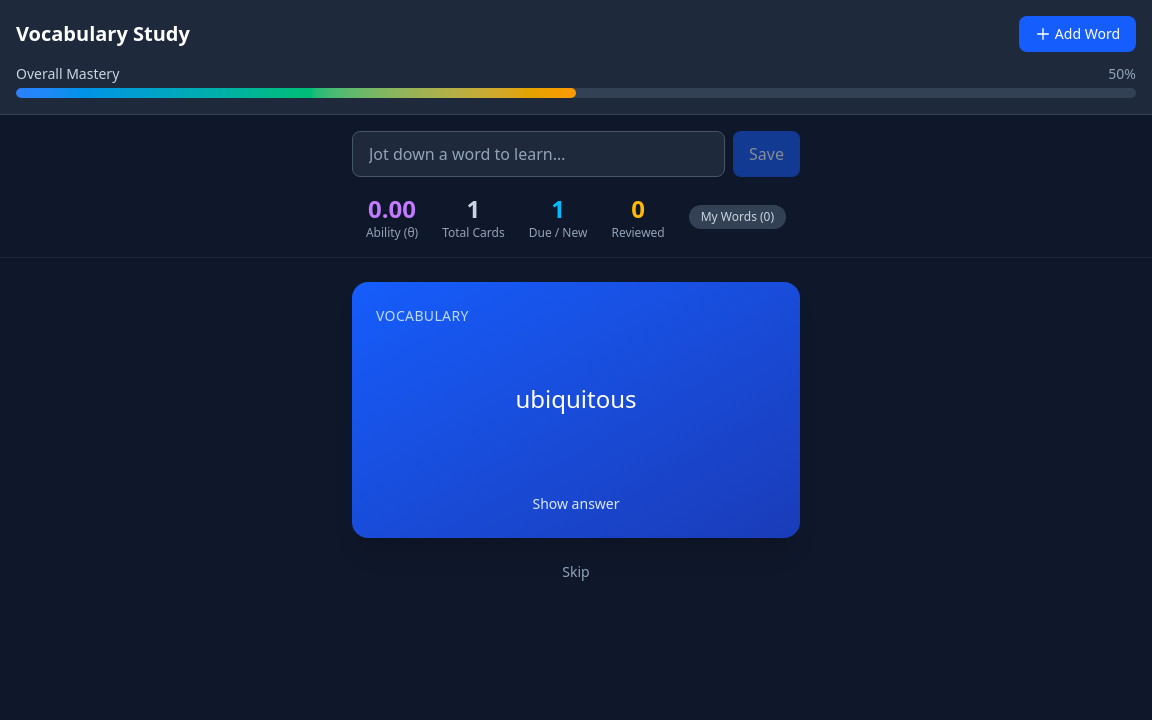
it: VocabularyStudy › does not capture a word that is already a card
Type "Ubiquitous" into the field named "Capture a word to define later".
click(539, 154); type("Ubiquitous")  # box [352,131,725,177]
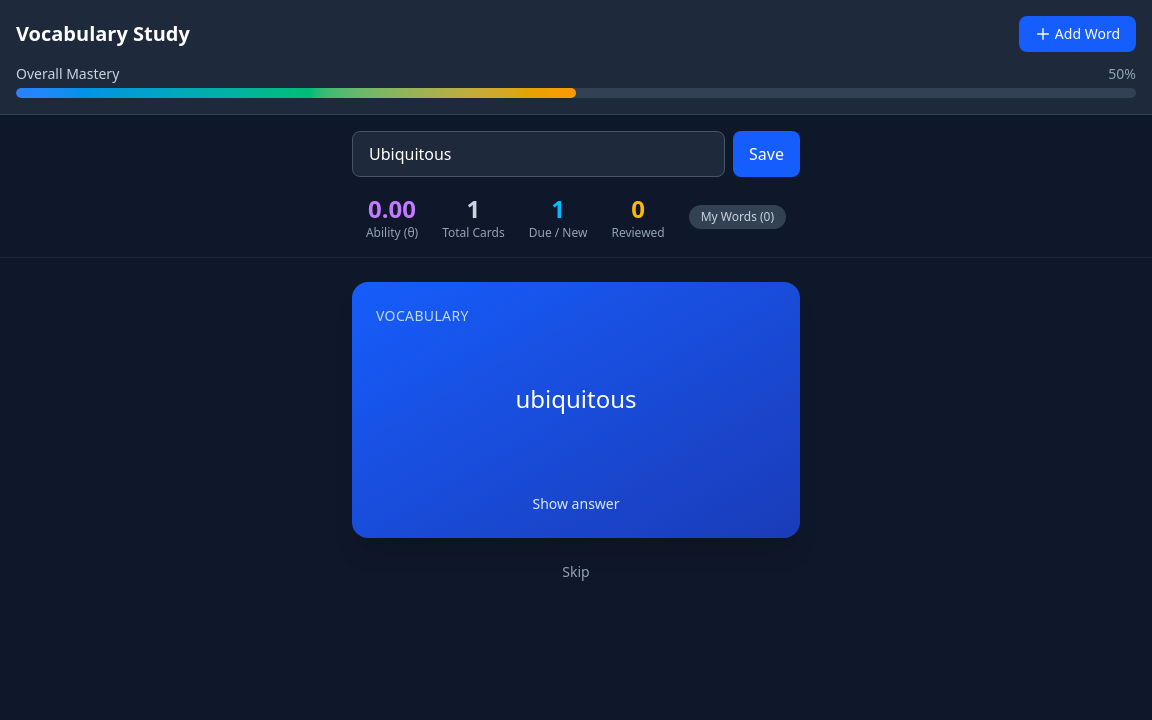
Click the button "Save".
click(767, 154)  # box [733,131,800,177]
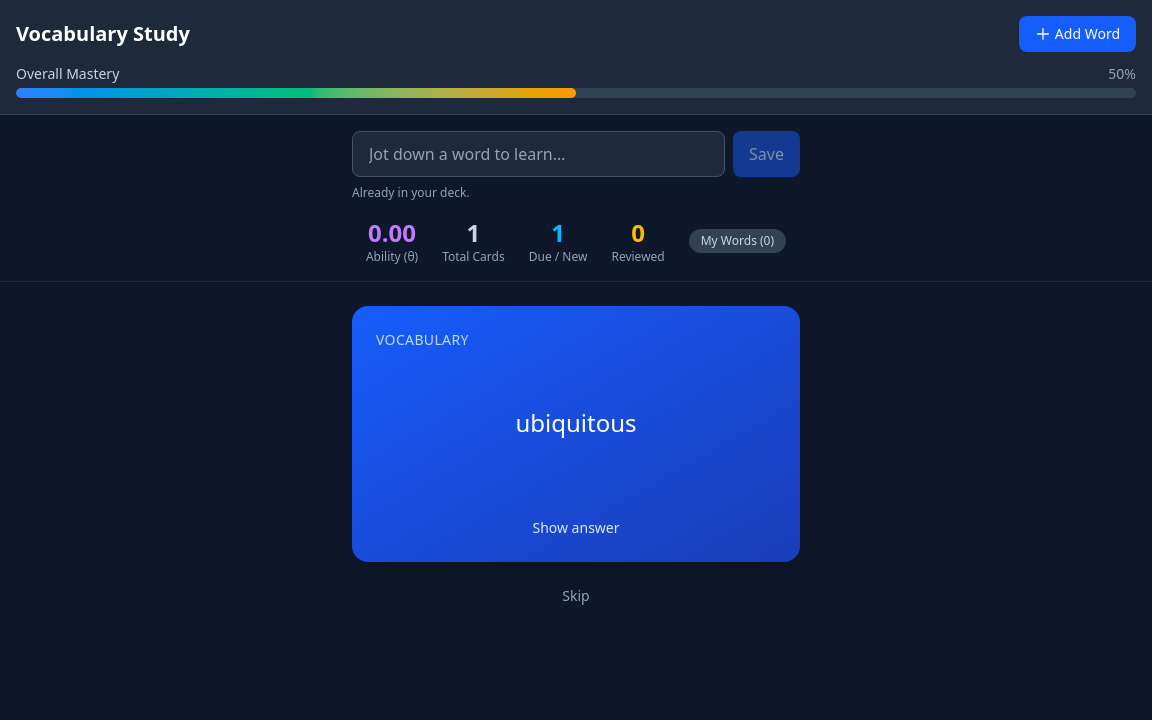
Now the message reads "Already in your deck.", box [352,184,470,201]
